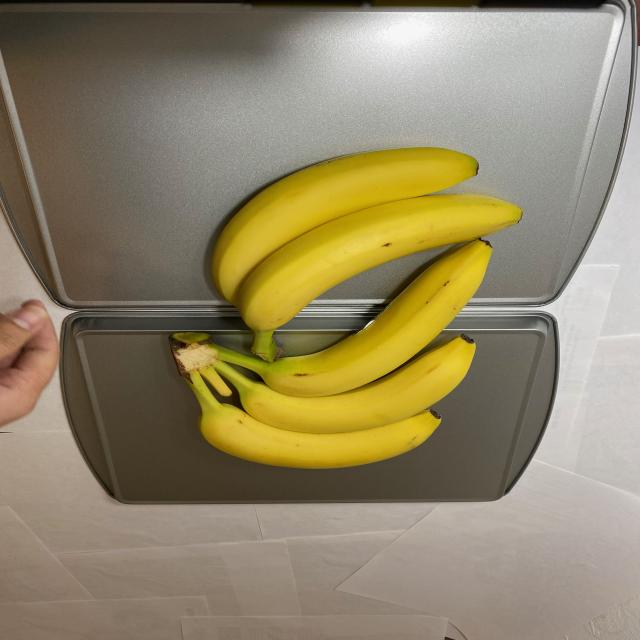banana: (168, 148, 529, 470)
